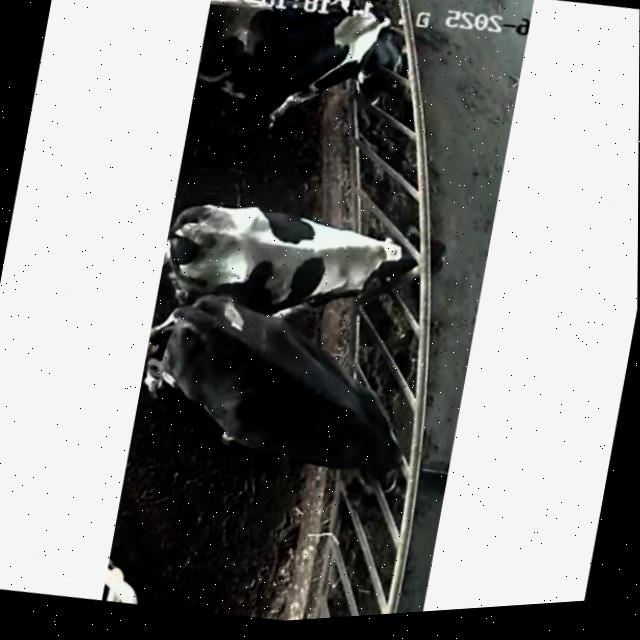eat: (288, 353, 457, 523), (297, 192, 472, 333), (293, 0, 445, 128)
